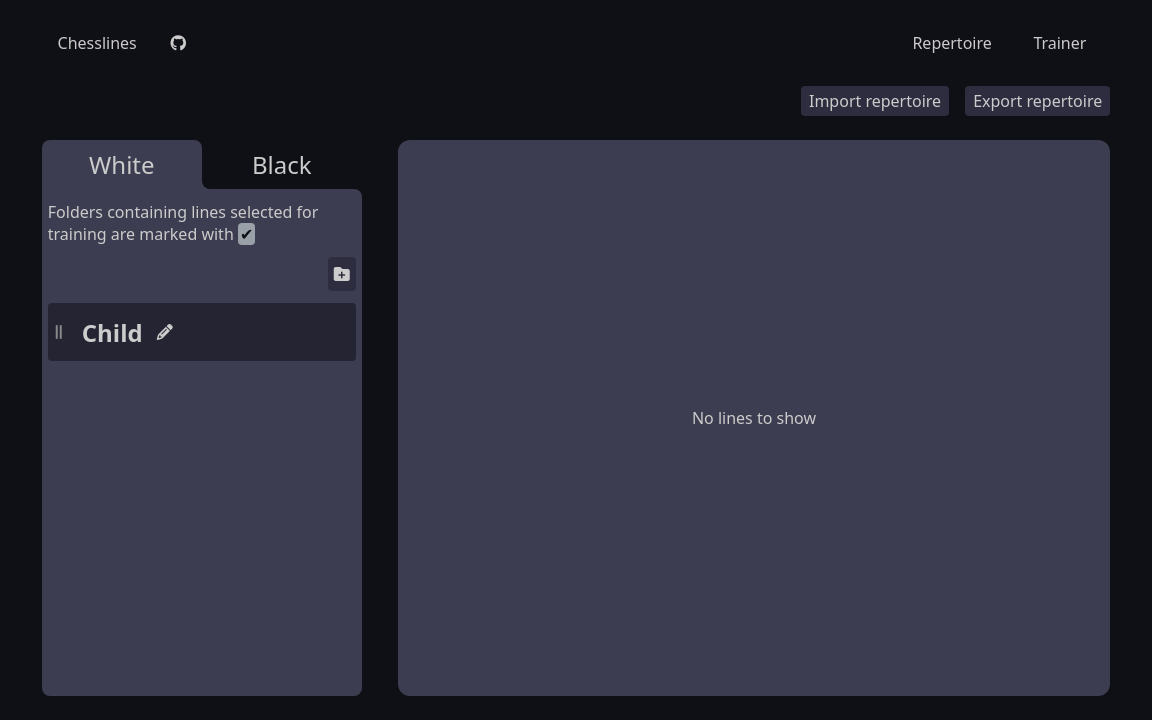
Lines panel › Opens lines folder in line panel when clicked on
Click the button named "open child folder in lines panel" at {"x": 213, "y": 332}, box x1=70 y1=303 x2=356 y2=361
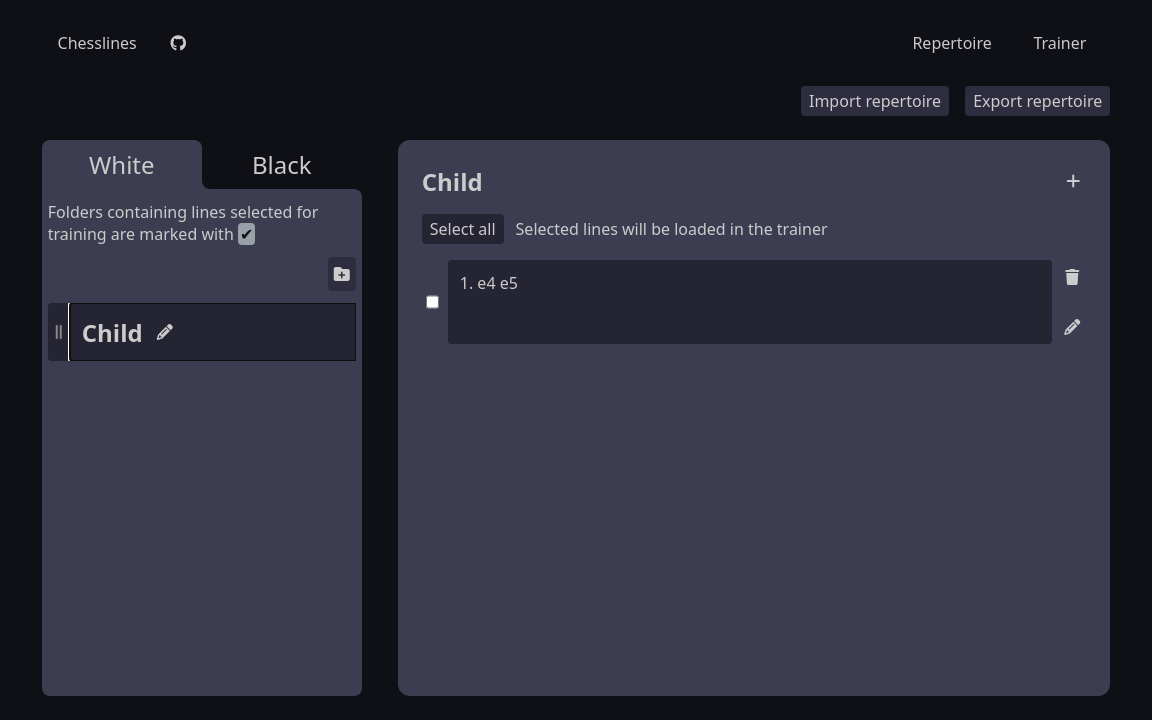
Expected: the element "Child" is shown, x1=398 y1=140 x2=1110 y2=696
